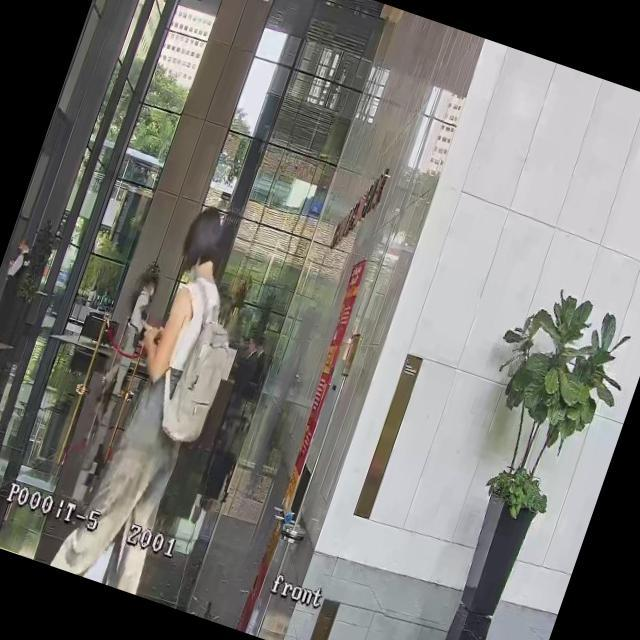person: (49, 192, 266, 592), (98, 272, 164, 400), (0, 230, 37, 343), (226, 334, 265, 402), (244, 336, 272, 385)
